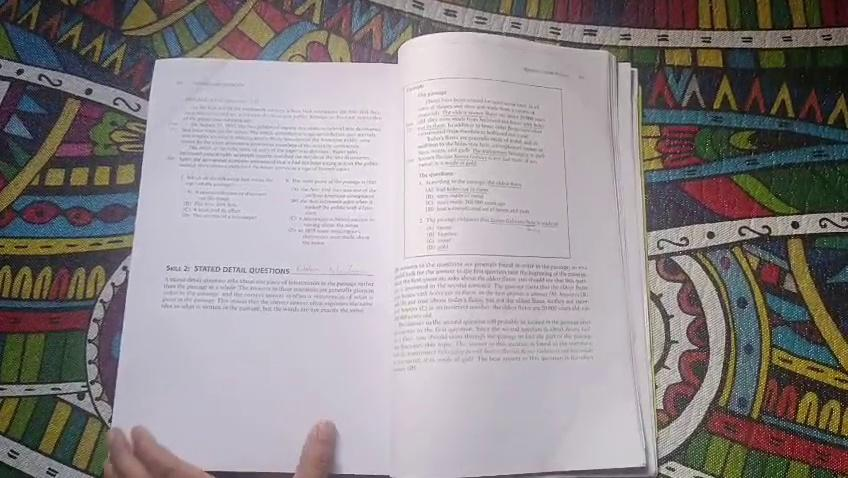Kertas: (115, 56, 400, 473), (394, 29, 647, 475)
